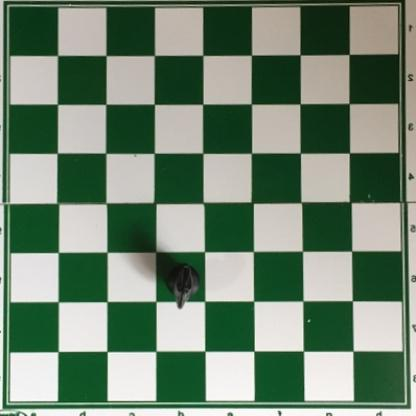black-knight: (165, 261, 201, 310)
